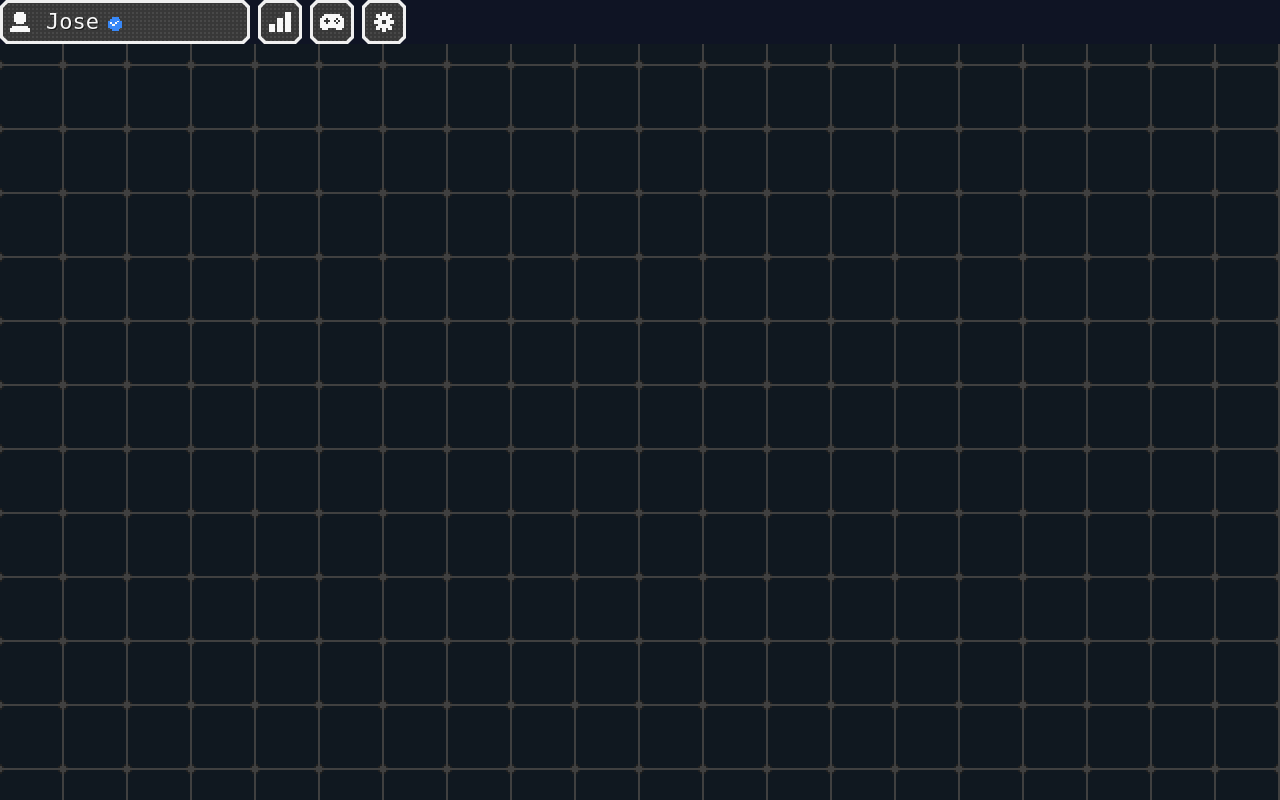
it: cuenta en la interfaz (UT-100) › las estadísticas de un amigo cuentan su oficial de hoy y enseñan sus Pokémon en pie de hoy (UT-147)
Click the button named "Estadísticas": (280, 22) 258,0 -> 302,44
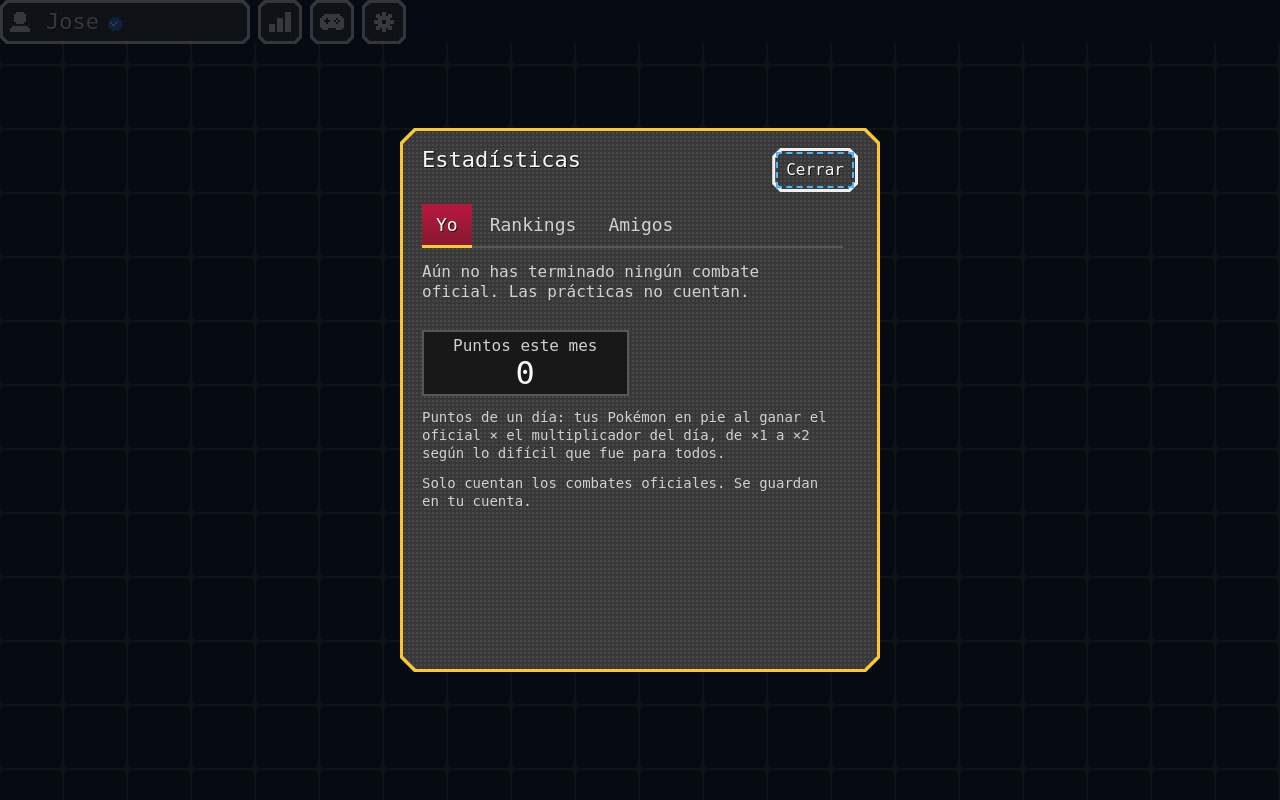
Click the tab "Amigos": (641, 226) 594,204 -> 687,248
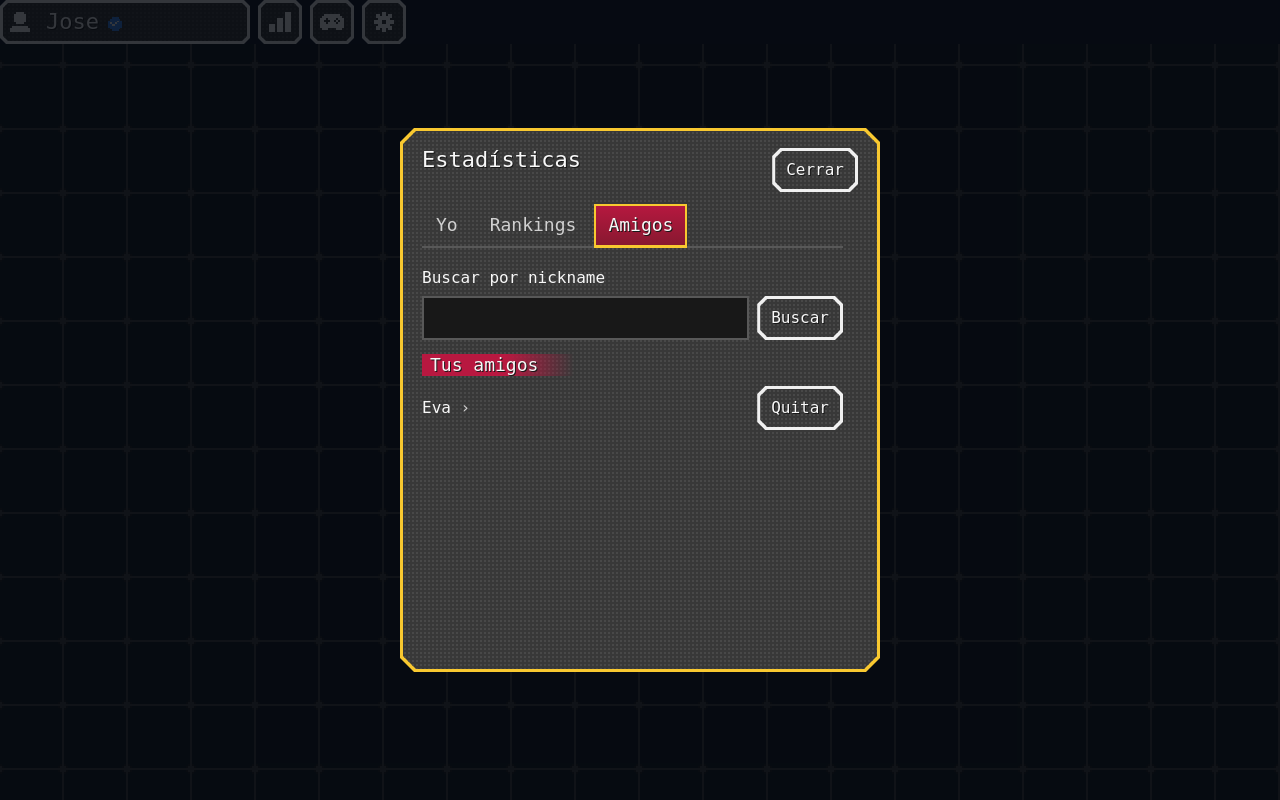
Click the button with aria-label "Ver las estadísticas de Eva": (436, 408) 422,386 -> 749,430
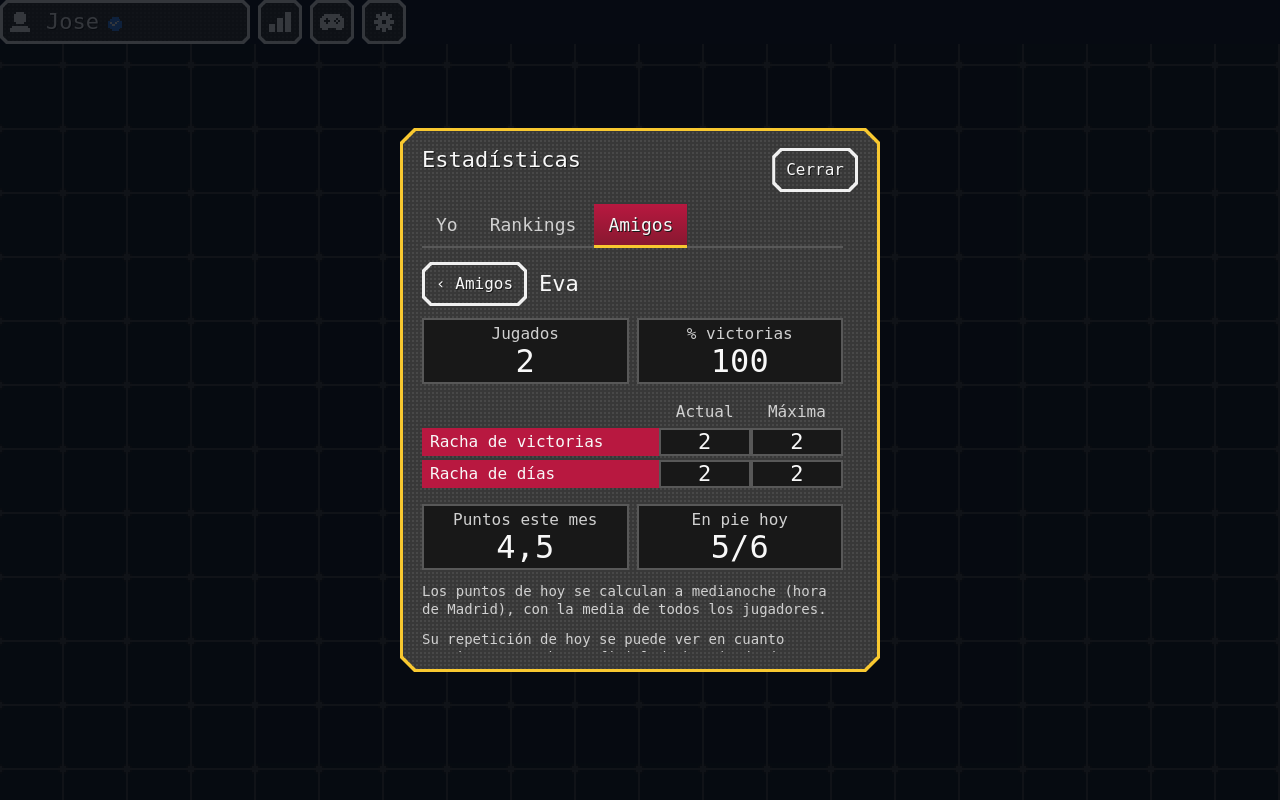
Expected: the text with test id "stats-played" reads "2", 516,342 -> 535,380
Expected: the text with test id "stats-today-survivors" reads "5/6", 711,528 -> 769,566
Expected: the text "Los puntos de hoy se calculan a medianoche" is shown, 422,583 -> 827,617
